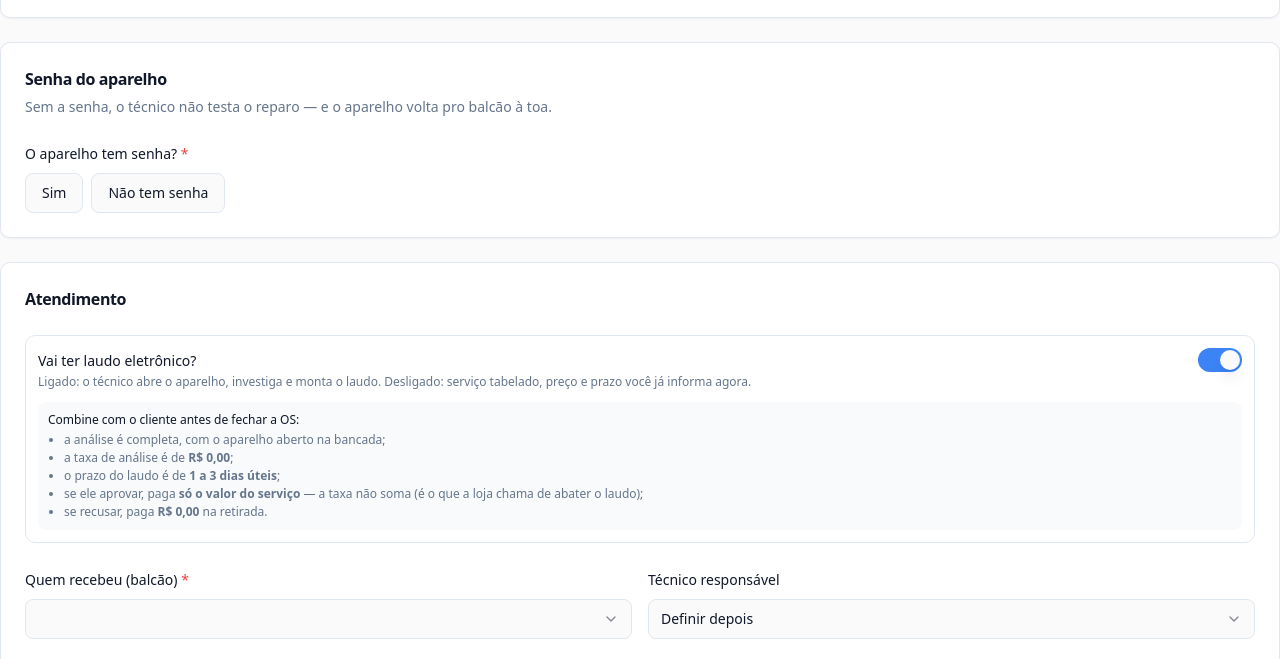
Nova OS › serviço tabelado e pago pede o preço combinado no balcão
The width and height of the screenshot is (1280, 659).
(page scrolled)
Expected: the field labelled "preço combinado" is not shown
Click the switch named "vai ter laudo eletrônico" at [1220, 360], box [1198,348,1242,372]
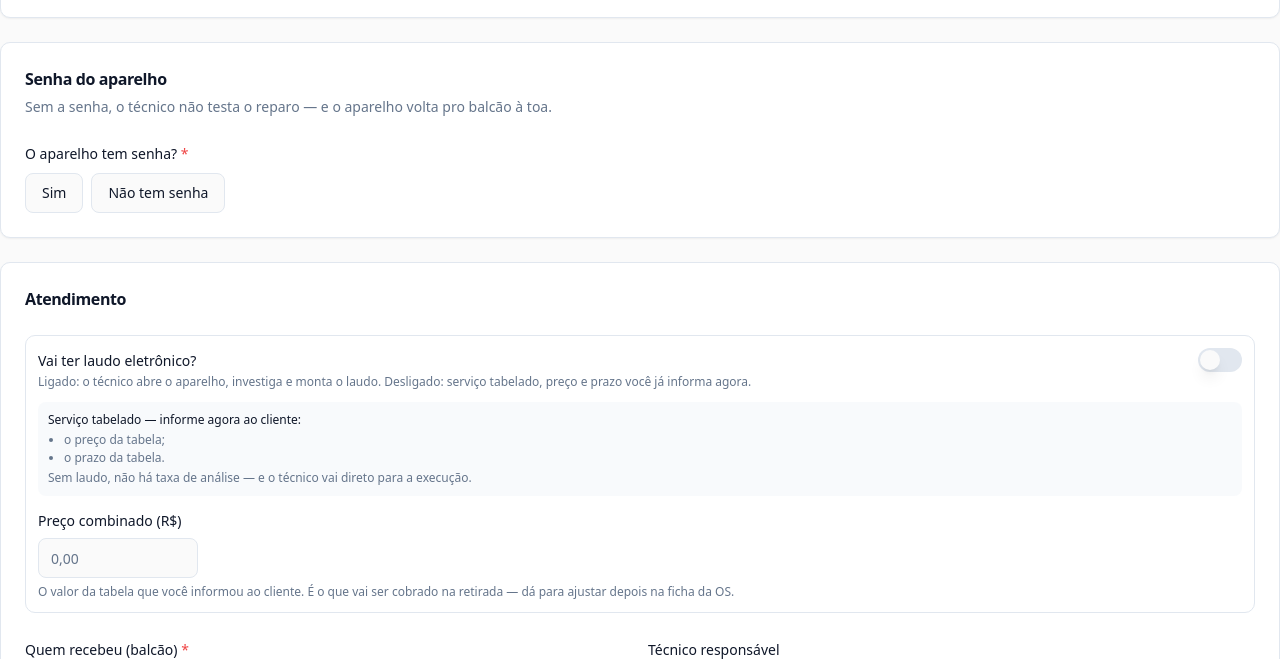
Expected: the number field labelled "Preço combinado (R$)" is shown, [38,538,198,578]
